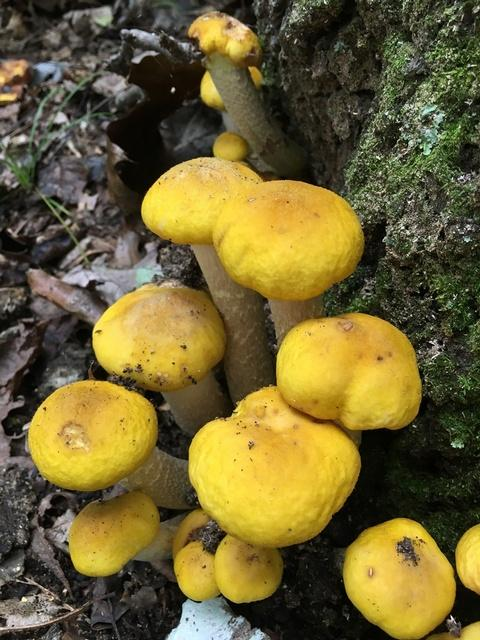Edible Mushroom: (23, 304, 428, 548), (131, 152, 370, 304), (344, 528, 479, 640), (185, 4, 281, 148), (167, 547, 290, 608)
